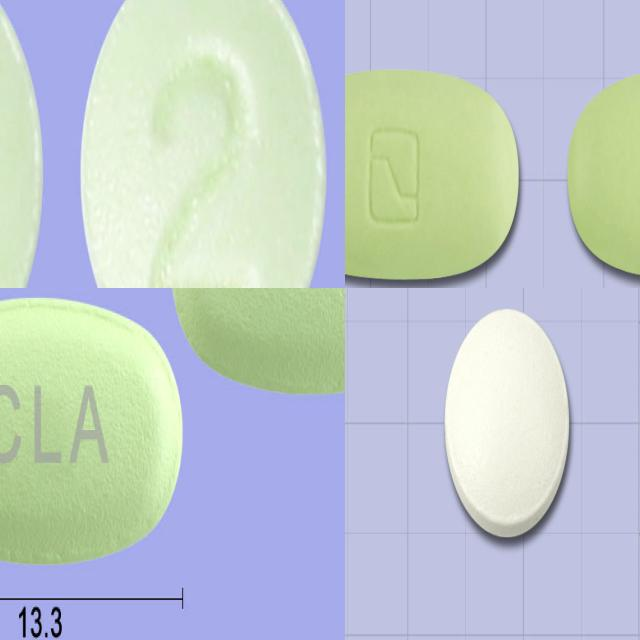Azabio - 25mg: (77, 0, 329, 288)
Ciproctan - 500mg: (441, 301, 574, 549)
Clar - 500mg: (0, 288, 188, 569), (167, 288, 345, 397)
Claroma: (345, 66, 521, 283), (566, 67, 640, 280)
